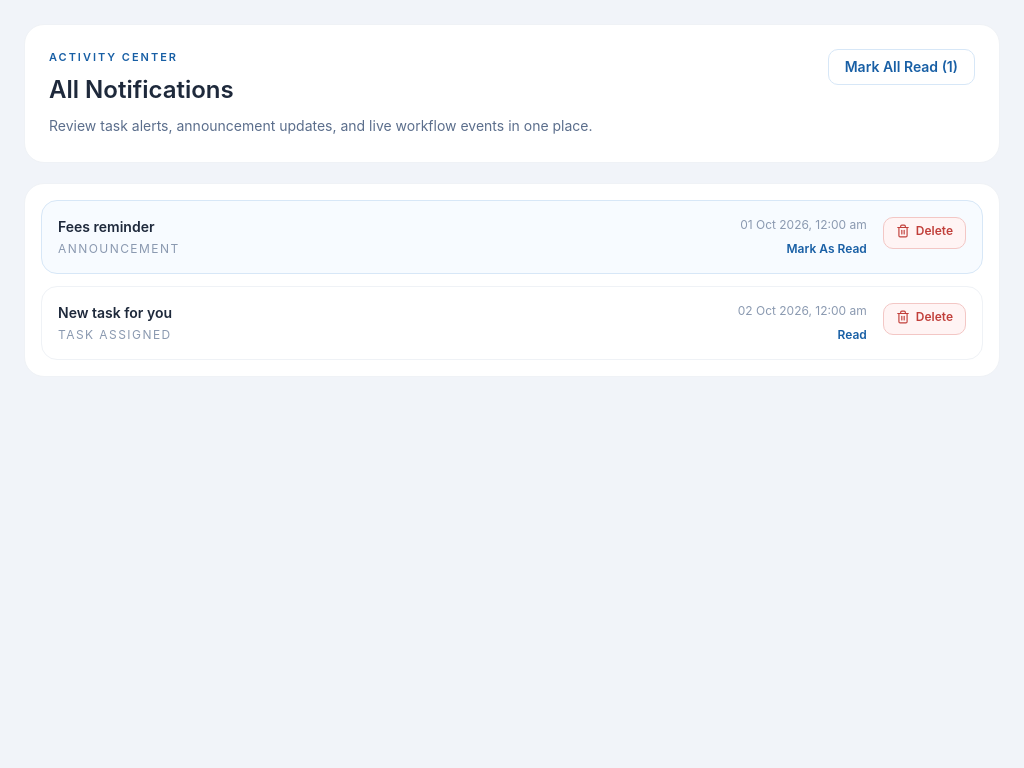
Scenario: Notifications delete › treats 404 (already deleted) as success
The image size is (1024, 768).
Expected: the text "Fees reminder" is shown, [58, 218, 154, 234]
Click the button with aria-label "Delete notification": [924, 232] box [883, 216, 966, 248]
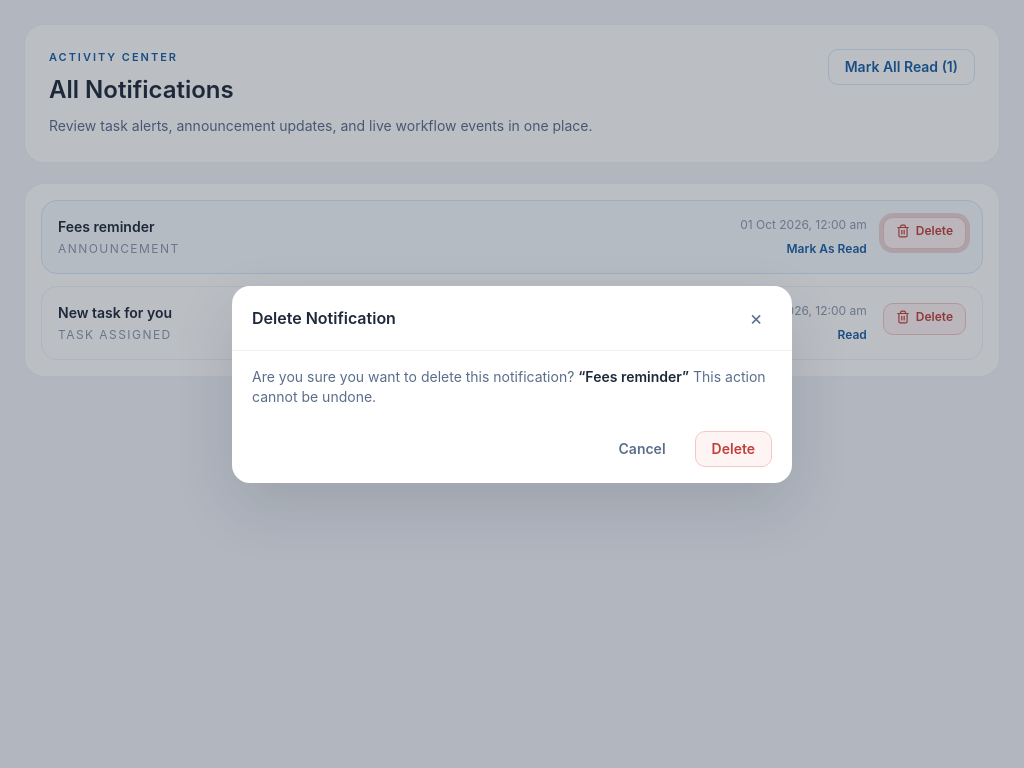
Click the button "Delete": [733, 448] box [695, 430, 772, 466]
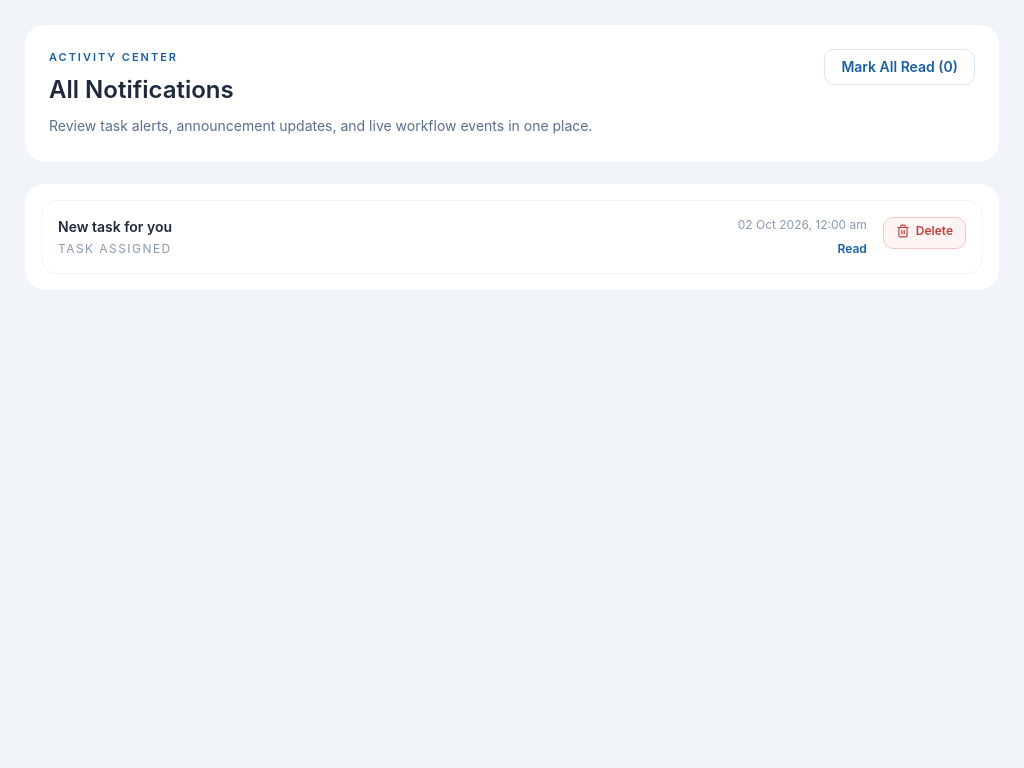
Expected: the button "Fees reminder" is gone
